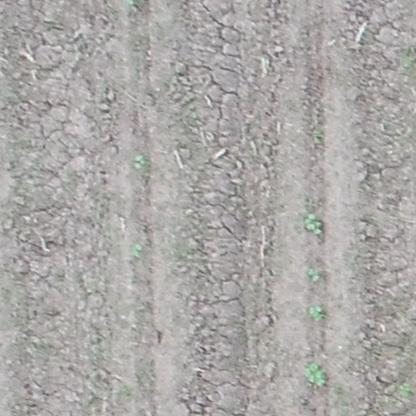vc: (304, 361, 328, 387), (304, 212, 327, 236), (308, 303, 326, 322), (307, 267, 322, 285), (132, 152, 147, 169), (132, 242, 141, 256)
